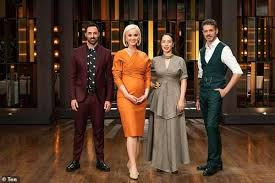Bad: (152, 19, 243, 176), (68, 23, 152, 180), (113, 24, 189, 179)
